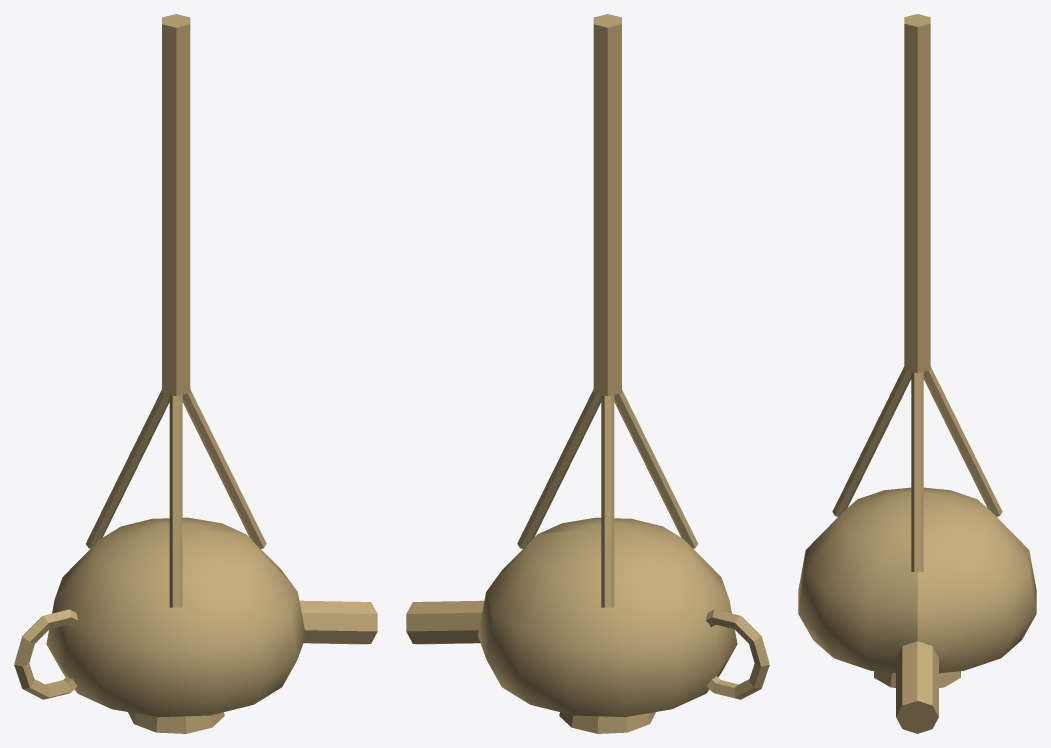
The model's file is roman-bathhouse-and-palaestra-hanging-lamp-0892ad11__37896.glb.
3 renders of one model, left to right at view 1: azimuth 30°, elevation 25°; view 2: azimuth 150°, elevation 25°; view 3: azimuth 270°, elevation 25°, orthographic. The views are drawn at different scales.
Visible parts, largest first — view 1: hanging-lamp; view 2: hanging-lamp; view 3: hanging-lamp.
Part boxes in pixels (left/top/right/bottom): hanging-lamp: left=14, top=14, right=377, bottom=733; hanging-lamp: left=406, top=14, right=769, bottom=733; hanging-lamp: left=798, top=14, right=1036, bottom=733.
Bounding box in the file's own units: 0.5068 × 0.94 × 0.312.
